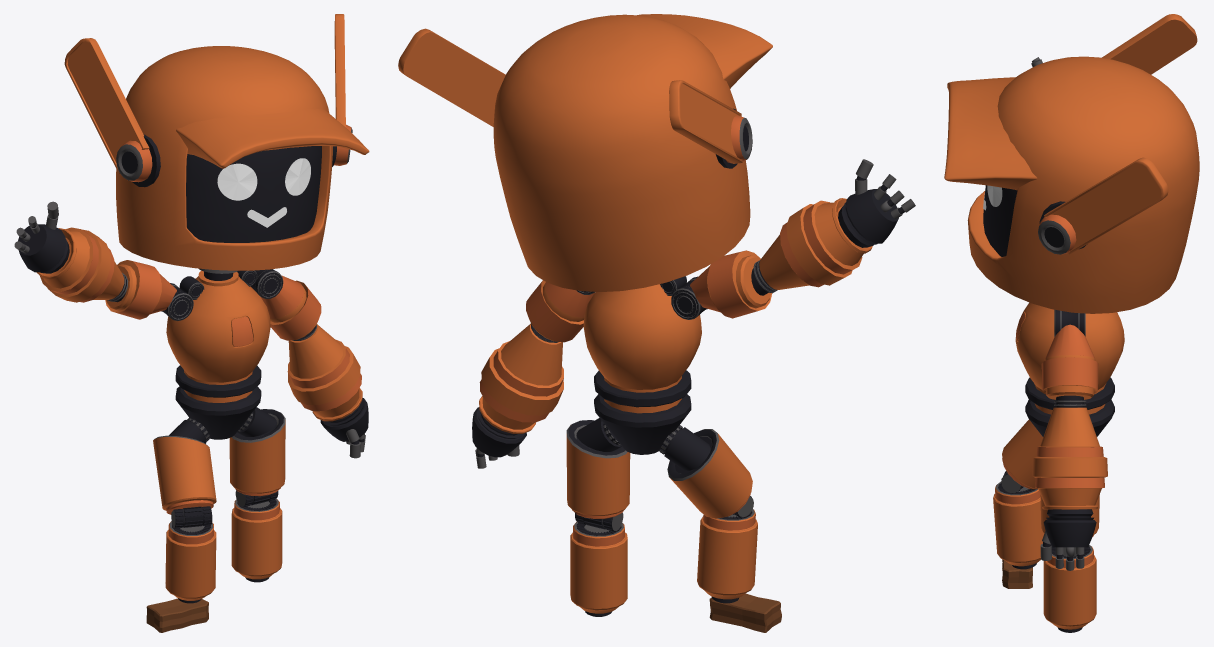
The model's file is robot_love_death_and_robots.gltf.
3 renders of one model, left to right at view 1: azimuth 30°, elevation 25°; view 2: azimuth 150°, elevation 25°; view 3: azimuth 270°, elevation 25°, orthographic. The views are drawn at different scales.
Visible parts, largest first — view 1: Cylinder, Cylinder.002, Cube.001, Cylinder.037, Cube, Cylinder.008, Cylinder.023, Cylinder.053, Cylinder.052, Cylinder.024, Cylinder.007, Cylinder.036 (+12 smaller); view 2: Cylinder, Cylinder.002, Cylinder.037, Cylinder.008, Cube.003, Cylinder.053, Cylinder.024, Cylinder.052, Cylinder.023, Cube, Cylinder.007, Cube.001 (+10 smaller); view 3: Cylinder, Cube.001, Cylinder.037, Cube.003, Cylinder.002, Cylinder.053, Cylinder.024, Cylinder.036, Cube, Cylinder.039, Cylinder.023, Cylinder.061 (+5 smaller).
Boxes of the visible parts, left/top/right/bottom form: Cylinder: left=116, top=46, right=332, bottom=273; Cylinder.002: left=166, top=270, right=270, bottom=402; Cube.001: left=176, top=109, right=369, bottom=168; Cylinder.037: left=287, top=324, right=362, bottom=421; Cube: left=64, top=38, right=149, bottom=173; Cylinder.008: left=36, top=227, right=124, bottom=302; Cylinder.023: left=153, top=435, right=216, bottom=514; Cylinder.053: left=231, top=498, right=282, bottom=579; Cylinder.052: left=229, top=409, right=285, bottom=496; Cylinder.024: left=165, top=521, right=216, bottom=600; Cylinder.007: left=105, top=260, right=176, bottom=319; Cylinder.036: left=261, top=275, right=321, bottom=340; Cylinder: left=493, top=14, right=750, bottom=291; Cylinder.002: left=583, top=284, right=701, bottom=413; Cylinder.037: left=479, top=323, right=563, bottom=433; Cylinder.008: left=759, top=198, right=872, bottom=289; Cube.003: left=398, top=28, right=505, bottom=126; Cylinder.053: left=570, top=521, right=627, bottom=613; Cylinder.024: left=697, top=509, right=757, bottom=599; Cylinder.052: left=566, top=420, right=630, bottom=518; Cylinder.023: left=667, top=429, right=752, bottom=518; Cube: left=669, top=80, right=742, bottom=163; Cylinder.007: left=690, top=250, right=772, bottom=318; Cube.001: left=637, top=14, right=772, bottom=88; Cylinder: left=967, top=56, right=1199, bottom=313; Cube.001: left=944, top=77, right=1037, bottom=190; Cylinder.037: left=1032, top=407, right=1107, bottom=509; Cube.003: left=1044, top=157, right=1168, bottom=254; Cylinder.002: left=1015, top=302, right=1124, bottom=414; Cylinder.053: left=1043, top=545, right=1096, bottom=629; Cylinder.024: left=993, top=481, right=1044, bottom=566; Cylinder.036: left=1041, top=324, right=1098, bottom=399; Cube: left=1101, top=14, right=1197, bottom=74; Cylinder.039: left=1043, top=509, right=1096, bottom=547; Cylinder.023: left=1002, top=419, right=1042, bottom=489; Cylinder.061: left=1038, top=214, right=1076, bottom=254.
Size of the model in its own units: 439 by 571 by 238.
